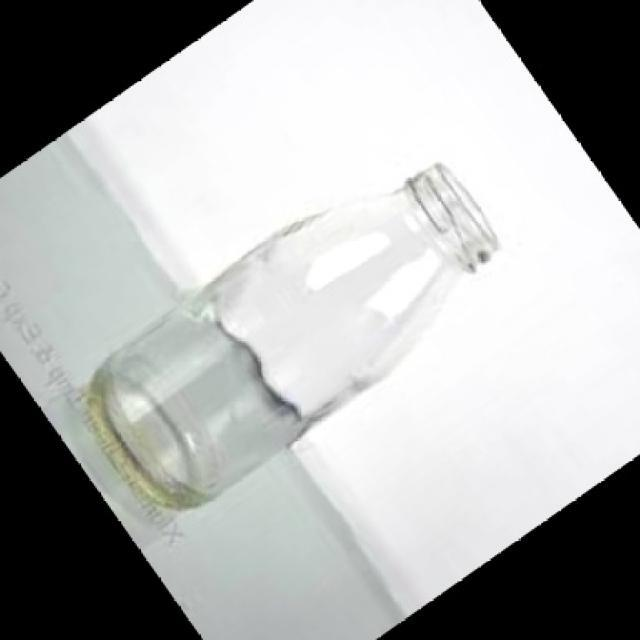Glass: (85, 163, 501, 512)
